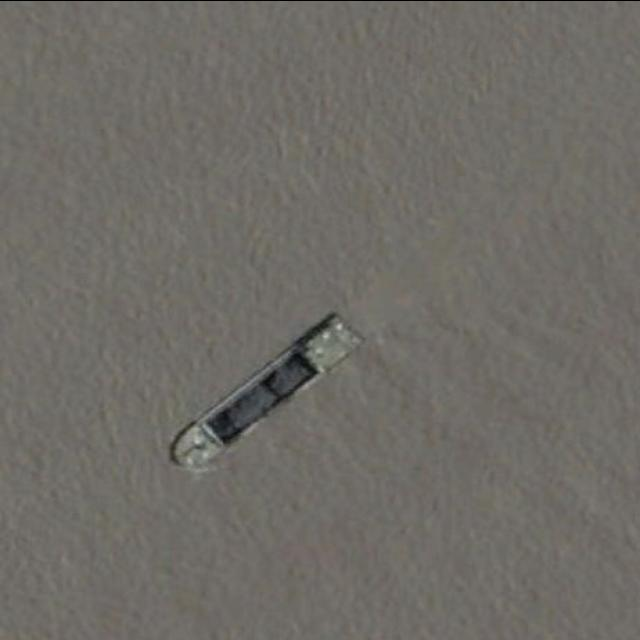ship: (166, 312, 367, 472)
